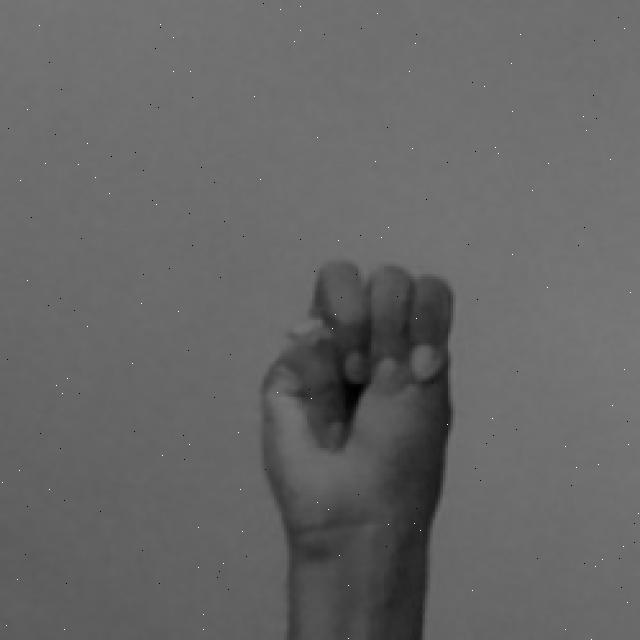M: (251, 253, 458, 640)
